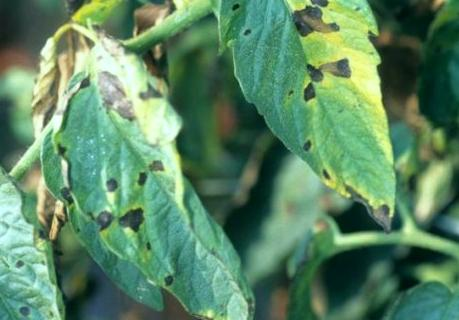Tomato Early blight leaf: (54, 40, 259, 320), (208, 0, 417, 212)
